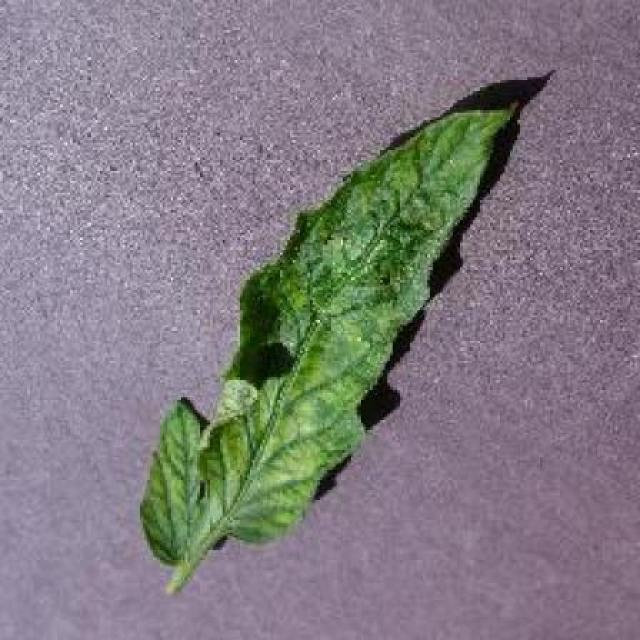Mosaic Virus: (138, 97, 522, 572)
